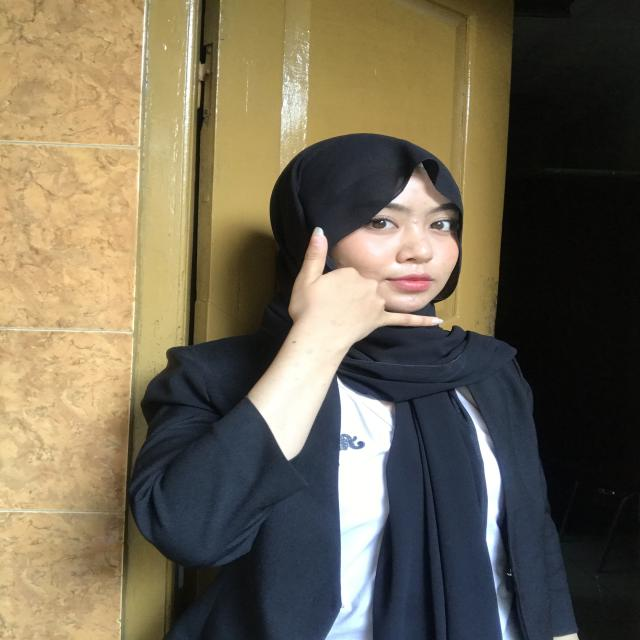telpon: (251, 220, 455, 371)
